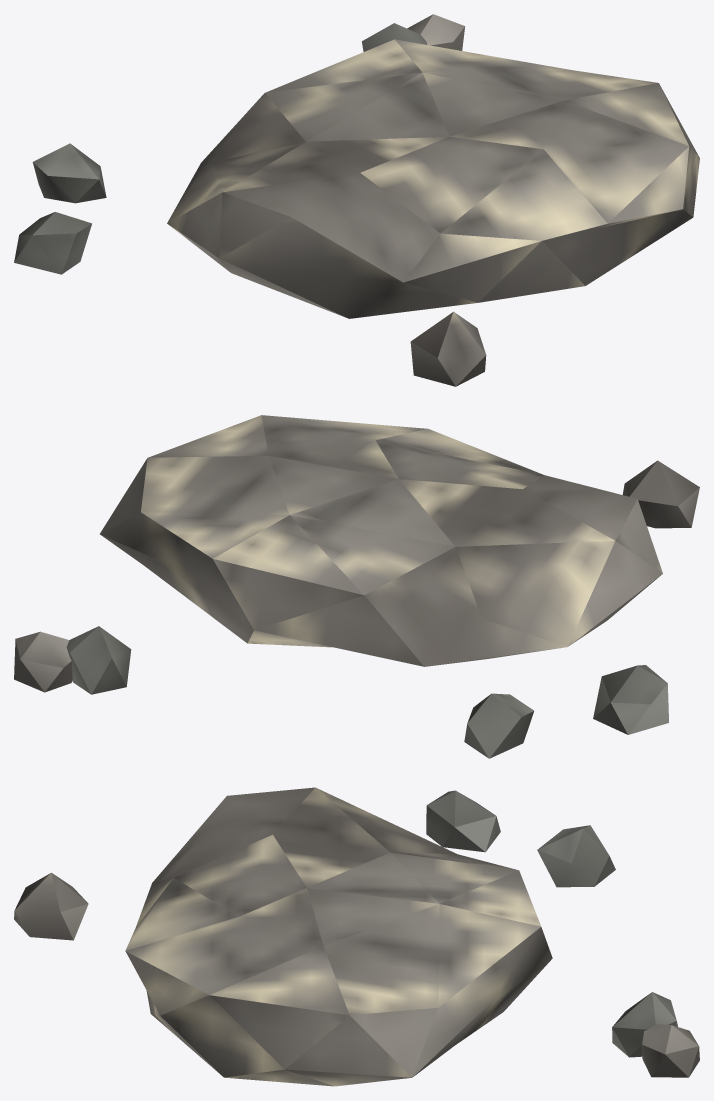
File: SM_StoneDeposit01_Depleted.fbx
3 views of the same model, one above another, from view 1: azimuth 30°, elevation 25°; view 2: azimuth 150°, elevation 25°; view 3: azimuth 270°, elevation 25° (orthographic). The views are drawn at different scales.
Visible parts, largest first — view 1: SM_StoneDeposit01_Depleted; view 2: SM_StoneDeposit01_Depleted; view 3: SM_StoneDeposit01_Depleted.
Part boxes in pixels (bbox=[...]): SM_StoneDeposit01_Depleted: bbox=[14, 14, 699, 386]; SM_StoneDeposit01_Depleted: bbox=[14, 415, 699, 758]; SM_StoneDeposit01_Depleted: bbox=[14, 787, 699, 1086].
Bounding box in the file's own units: 4.38 × 0.7475 × 4.48.
Materials: 1 (1 with a texture image).
